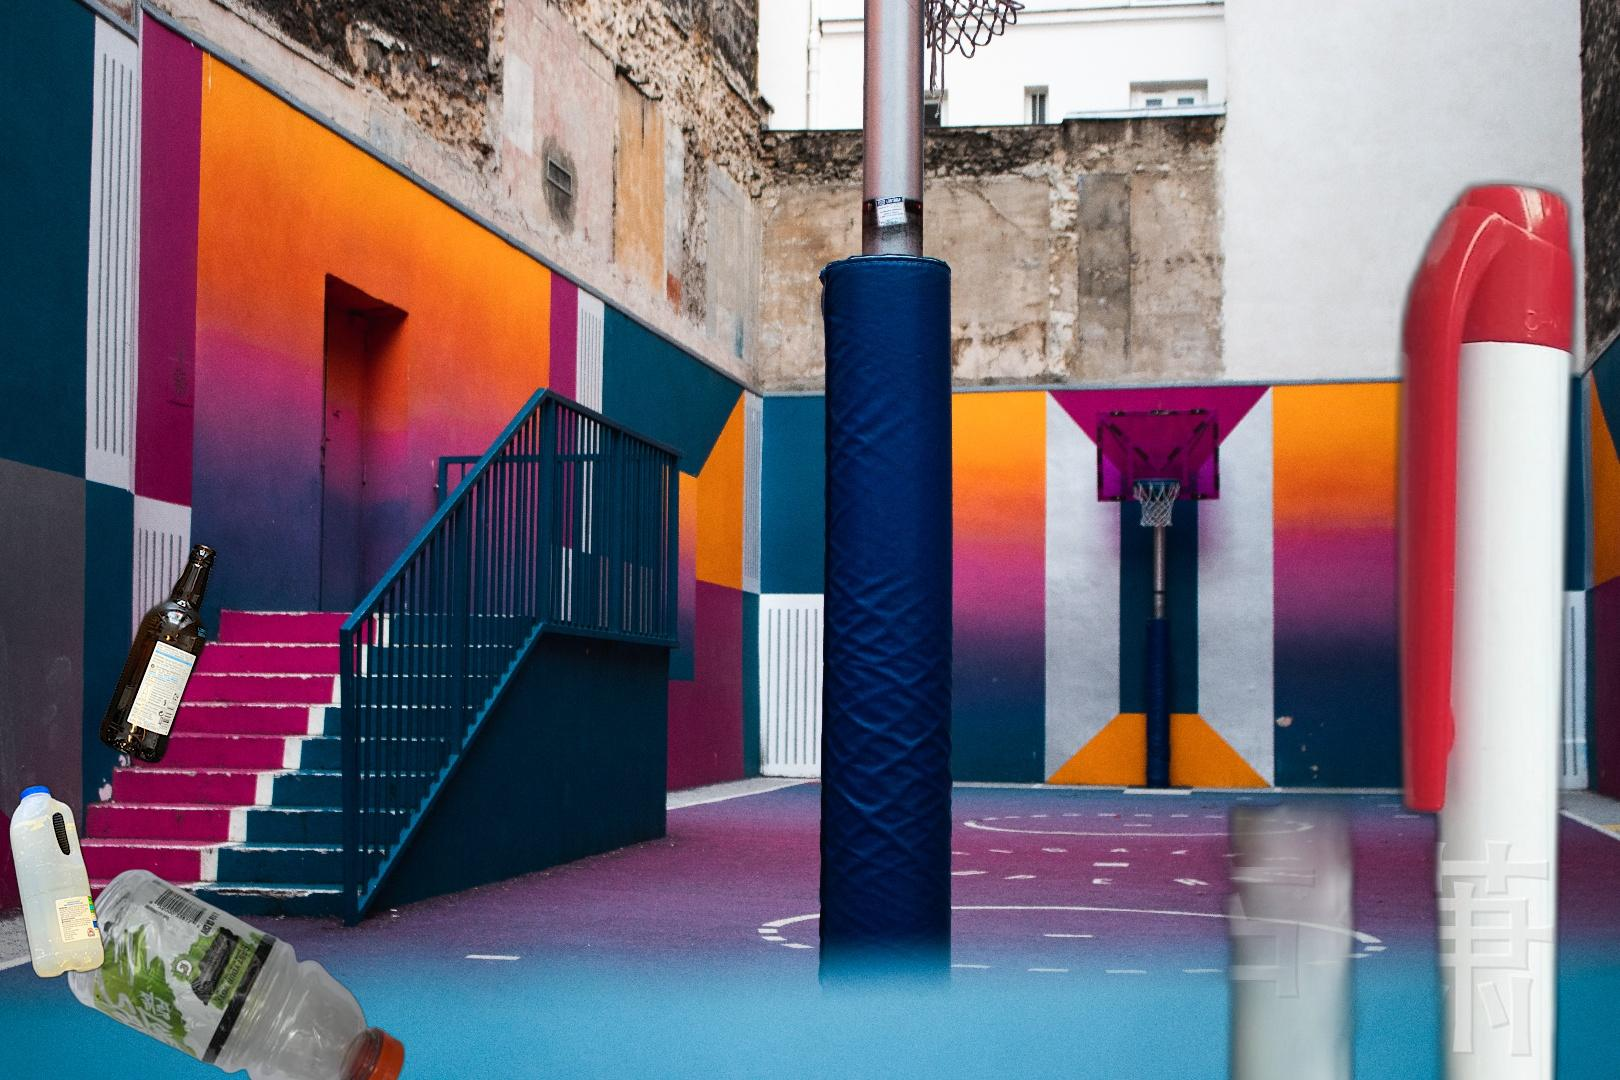glass: (94, 538, 224, 770)
penholder: (1173, 168, 1620, 1080)
plastic-bottles: (61, 865, 409, 1080), (4, 779, 108, 984)
